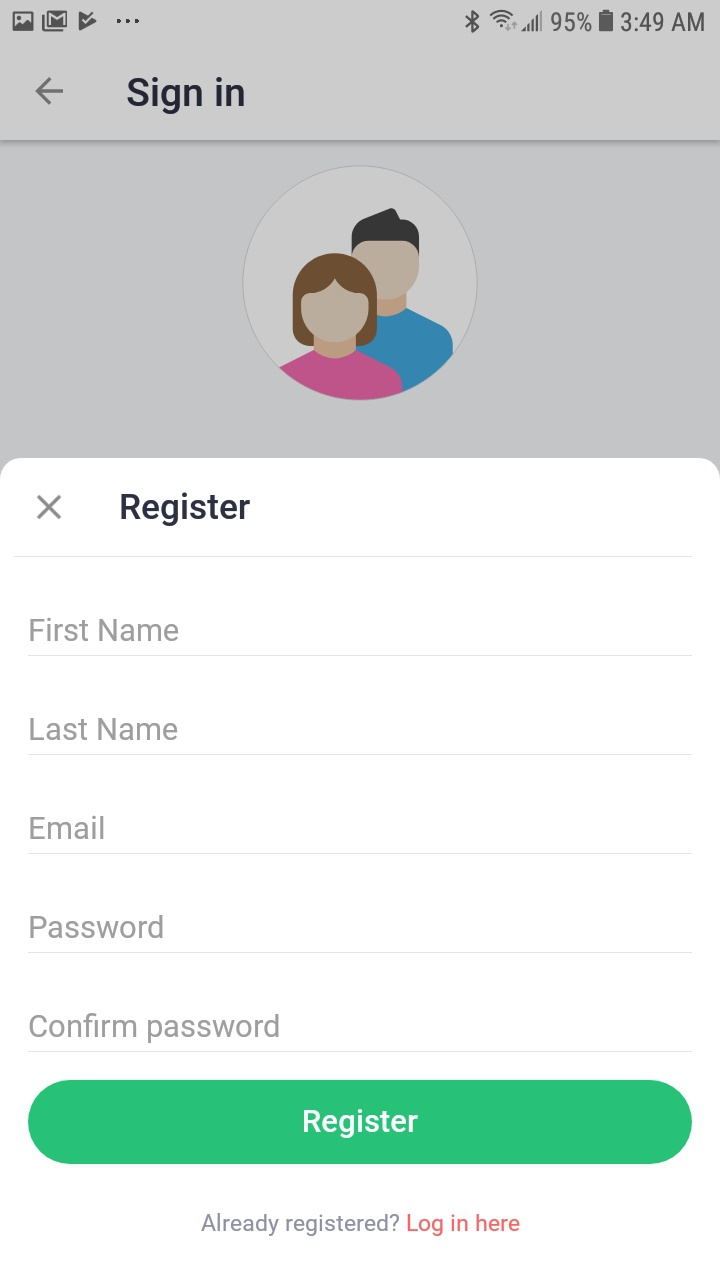EditText: (29, 1012, 693, 1053), (28, 617, 693, 657), (29, 815, 693, 855), (28, 915, 692, 954), (28, 718, 693, 756)
Icon: (36, 78, 65, 106), (37, 495, 63, 521)
Image: (243, 166, 479, 402)
Modal: (1, 458, 720, 1280)
Text: (201, 1212, 521, 1237), (30, 1013, 280, 1043), (128, 77, 245, 116), (121, 492, 251, 527), (31, 617, 179, 642), (30, 718, 179, 741), (30, 915, 164, 939), (30, 815, 105, 840)
TextButton: (28, 1079, 692, 1165)
UpperTaskBar: (1, 1, 720, 35)
